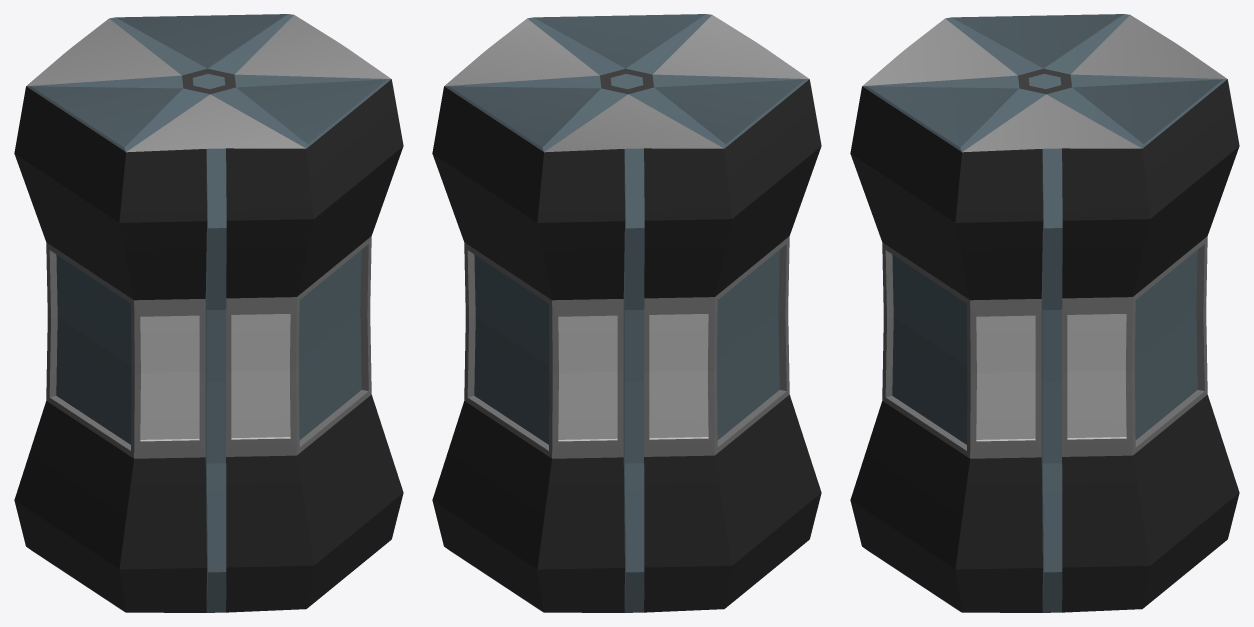
The model's file is Power Cell.fbx.
The picture shows the model from 3 angles, left to right: view 1: azimuth 30°, elevation 25°; view 2: azimuth 150°, elevation 25°; view 3: azimuth 270°, elevation 25°; orthographic projection.
Parts seen in each view (by area): view 1: Power Cell; view 2: Power Cell; view 3: Power Cell.
Boxes of the visible parts, left/top/right/bottom form: Power Cell: left=14, top=14, right=403, bottom=612; Power Cell: left=432, top=14, right=821, bottom=612; Power Cell: left=850, top=14, right=1239, bottom=612.
Size of the model in its own units: 211 by 160 by 147.
1 material, 1 textured.
